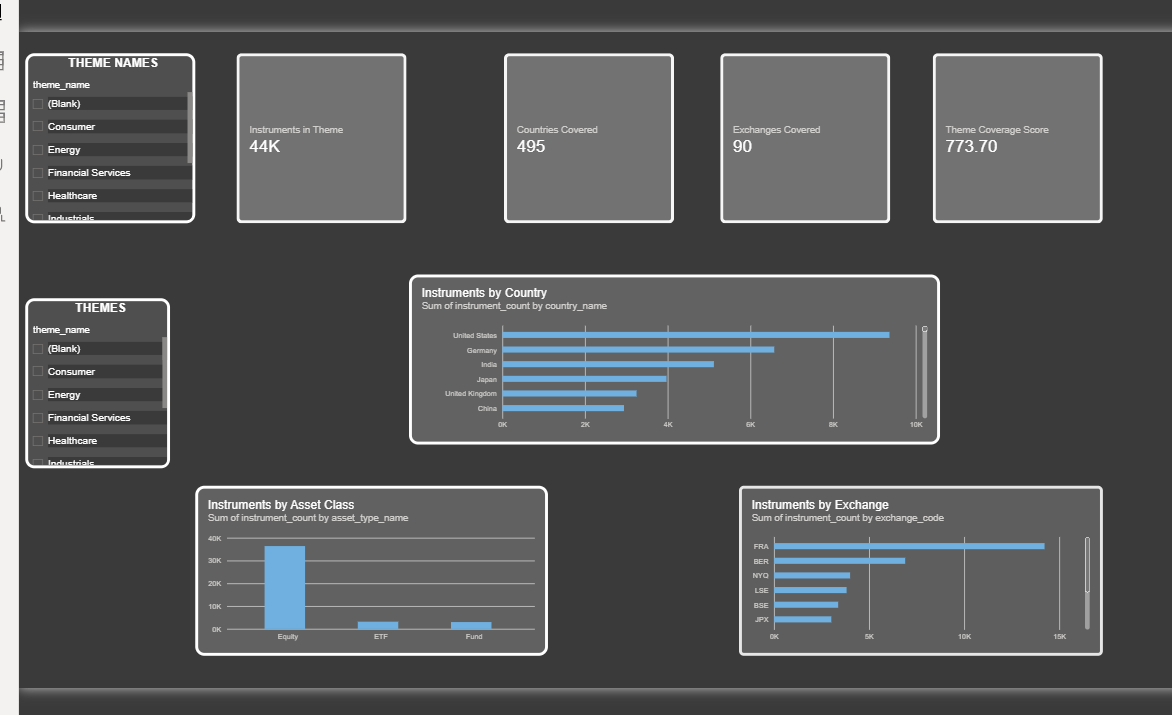

Layout of this report page (visuals, bound fields, positions):
{"tool":"powerbi","page":{"name":"Theme Intelligence","canvas":[1920,1080],"ordinal":1},"visuals":[{"type":"slicer","title":"THEME NAMES","fields":{"Values":["vw_ThemeCoverageScore.theme_name"]},"box":[10.3,35,279.9,279.9],"z":0},{"type":"cardVisual","fields":{"Data":["Sum(vw_ThemeCoverageScore.instrument_count)"]},"box":[358.1,35,280,280],"z":1000},{"type":"cardVisual","fields":{"Data":["Sum(vw_ThemeCoverageScore.country_count)"]},"box":[798.6,35,280,280],"z":2000},{"type":"cardVisual","fields":{"Data":["Sum(vw_ThemeCoverageScore.exchange_count)"]},"box":[1154.7,35,280,280],"z":3000},{"type":"cardVisual","fields":{"Data":["Sum(vw_ThemeCoverageScore.theme_coverage_score)"]},"box":[1504.6,35,280,280],"z":4000},{"type":"slicer","title":"THEMES ","fields":{"Values":["vw_CrossAssetThemeCounts.theme_name"]},"box":[10.3,438.4,238.8,279.9],"z":5000},{"type":"clusteredColumnChart","title":"Instruments by Asset Class","fields":{"Category":["vw_ThemeByCountryExchange.asset_type_name"],"Y":["Sum(vw_ThemeByCountryExchange.instrument_count)"]},"box":[290.2,747.2,580.4,279.9],"z":6000},{"type":"clusteredBarChart","title":"Instruments by Country","fields":{"Category":["vw_ThemeByCountryExchange.country_name"],"Y":["Sum(vw_ThemeByCountryExchange.instrument_count)"]},"box":[642.2,399.3,874.8,279.9],"z":7000},{"type":"clusteredBarChart","title":"Instruments by Exchange","fields":{"Category":["vw_ThemeByCountryExchange.exchange_code"],"Y":["Sum(vw_ThemeByCountryExchange.instrument_count)"]},"box":[1185.6,747.2,599,279.9],"z":8000}]}

Visuals, with their boxes in screenshot pixels (x1, y1, x2, y2):
"THEME NAMES" slicer: l=25, t=52, r=193, b=220
cardVisual - Sum(vw_ThemeCoverageScore.instrument_count): l=234, t=52, r=402, b=220
cardVisual - Sum(vw_ThemeCoverageScore.country_count): l=499, t=52, r=668, b=220
cardVisual - Sum(vw_ThemeCoverageScore.exchange_count): l=713, t=52, r=882, b=220
cardVisual - Sum(vw_ThemeCoverageScore.theme_coverage_score): l=924, t=52, r=1093, b=220
"THEMES " slicer: l=25, t=294, r=168, b=463
"Instruments by Asset Class" clusteredColumnChart: l=193, t=480, r=542, b=649
"Instruments by Country" clusteredBarChart: l=405, t=271, r=932, b=439
"Instruments by Exchange" clusteredBarChart: l=732, t=480, r=1093, b=649
